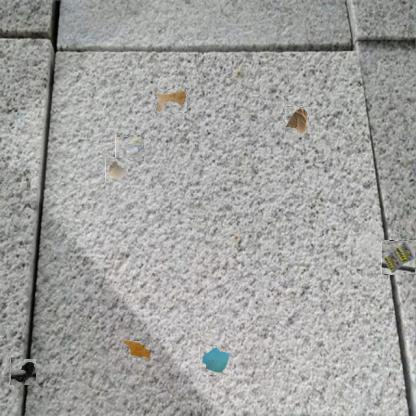dirty: (381, 240, 416, 274), (200, 345, 232, 375), (116, 136, 143, 163), (10, 359, 36, 385), (284, 106, 310, 132), (105, 157, 128, 181)
liquid: (155, 89, 187, 113), (122, 341, 152, 360)
